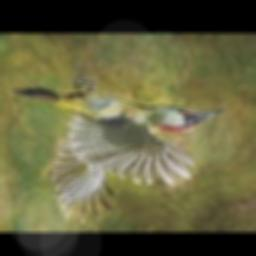Woodpecker: (8, 76, 224, 224)
